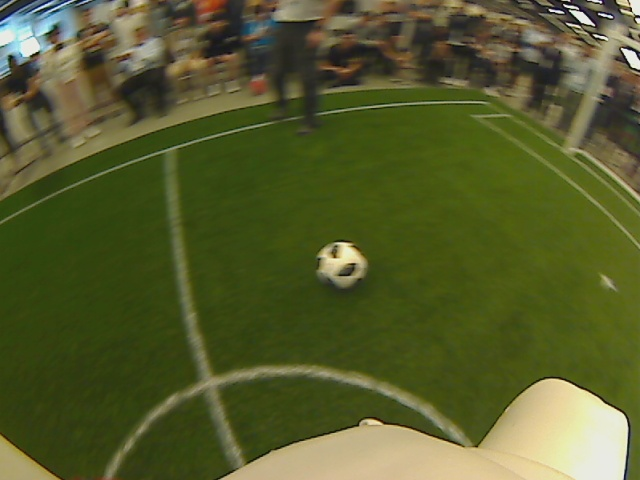ball: (313, 240, 369, 290)
